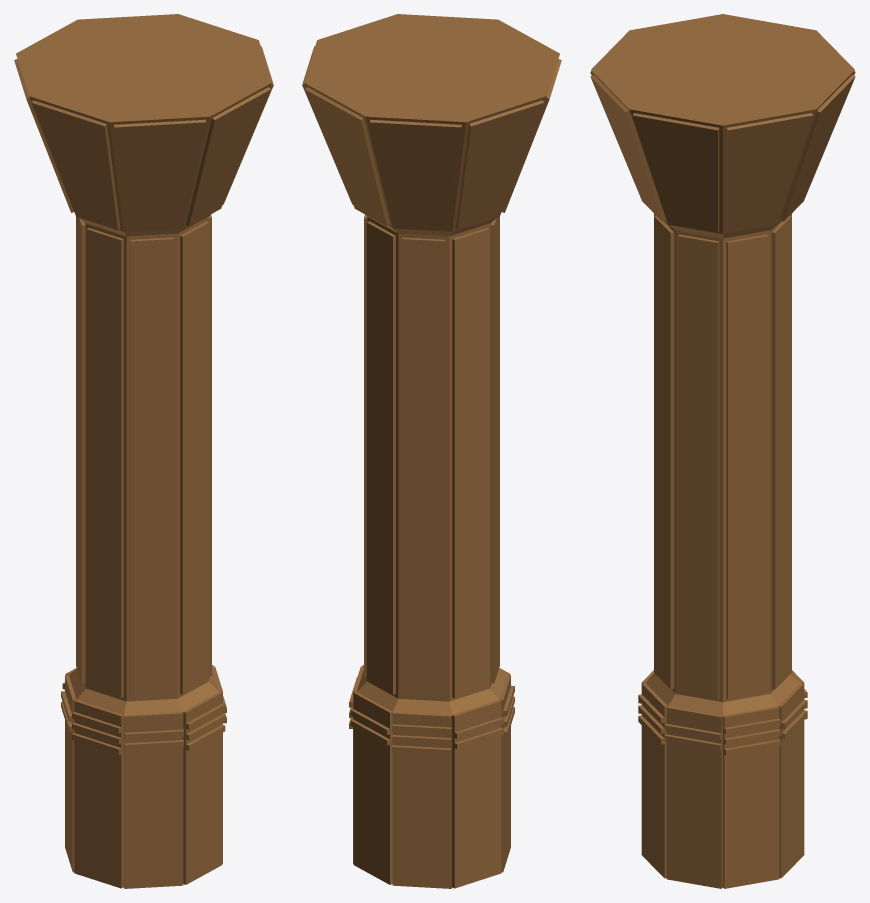
File: Pillar_Wood.gltf
3 views of the same model, side by side, from view 1: azimuth 30°, elevation 25°; view 2: azimuth 150°, elevation 25°; view 3: azimuth 270°, elevation 25° (orthographic).
Visible parts, largest first — view 1: Cylinder, Cylinder.001; view 2: Cylinder, Cylinder.001; view 3: Cylinder, Cylinder.001.
Part boxes in pixels (left/top/right/bottom): Cylinder: left=61, top=215, right=226, bottom=888; Cylinder.001: left=14, top=14, right=273, bottom=236; Cylinder: left=349, top=215, right=514, bottom=888; Cylinder.001: left=302, top=14, right=561, bottom=236; Cylinder: left=638, top=214, right=807, bottom=888; Cylinder.001: left=590, top=14, right=855, bottom=238.
Size of the model in its own units: 3.42 by 11.16 by 3.42.
